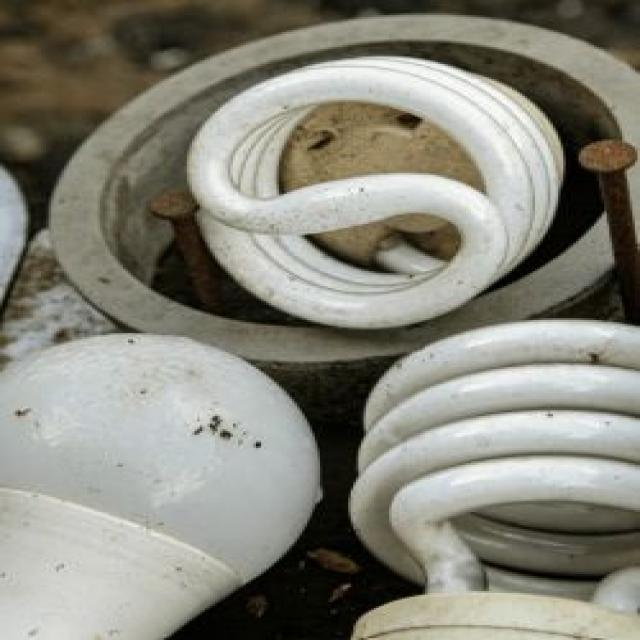electronic: (0, 9, 637, 638), (182, 53, 566, 329), (0, 330, 323, 638), (343, 314, 637, 638), (340, 587, 638, 638), (0, 109, 28, 392)
